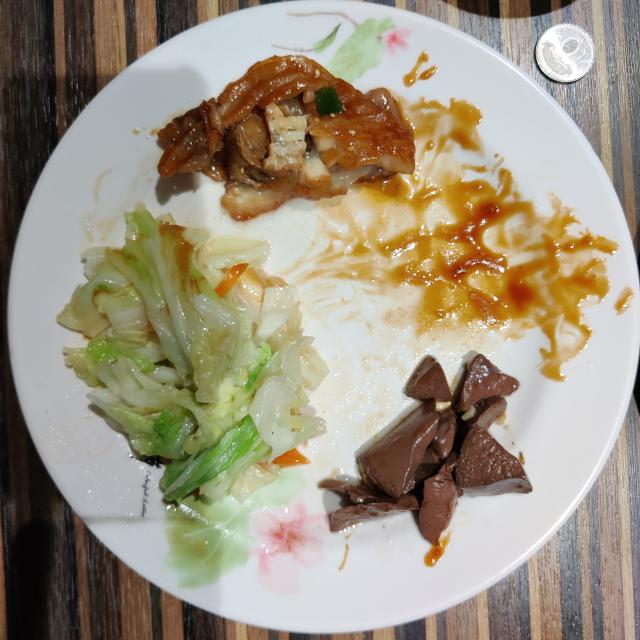Kabayaki sea bream fillet: (158, 55, 415, 220)
cabbage: (58, 205, 328, 501)
coin: (535, 24, 595, 82)
pig blood curd: (320, 354, 532, 545)
